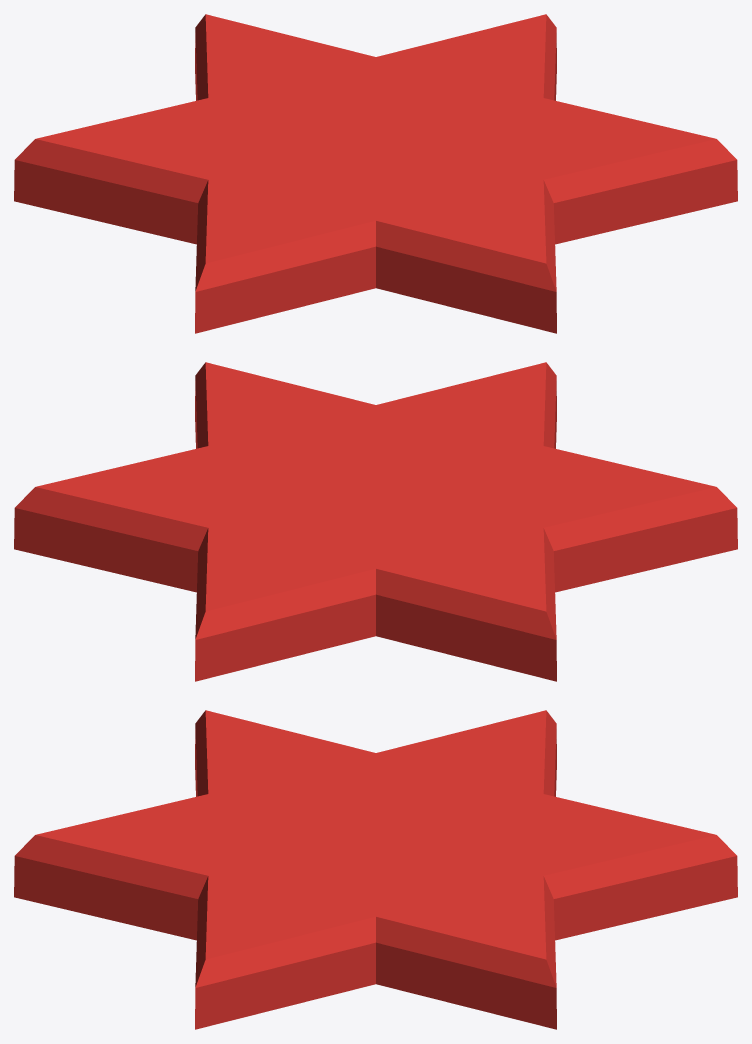
Rendered from SM_Gingerbread_Star_B.fbx.
3 views of the same model, one above another, from view 1: azimuth 30°, elevation 25°; view 2: azimuth 150°, elevation 25°; view 3: azimuth 270°, elevation 25° (orthographic).
Parts seen in each view (by area): view 1: gingerbread-star-b; view 2: gingerbread-star-b; view 3: gingerbread-star-b.
Part boxes in pixels (x1,y1,x2,y2): gingerbread-star-b: [14, 14, 737, 333]; gingerbread-star-b: [14, 362, 737, 681]; gingerbread-star-b: [14, 710, 737, 1029].
Bounding box in the file's own units: 0.0597 × 0.00656 × 0.069.
